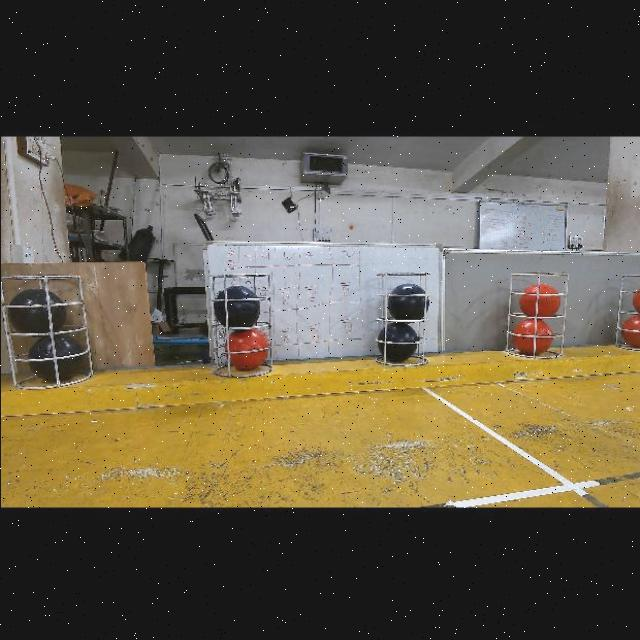P: (26, 333, 84, 382), (6, 288, 65, 333), (212, 285, 260, 327), (376, 322, 417, 363), (386, 283, 429, 320)
R: (229, 328, 269, 371), (511, 319, 553, 355), (518, 284, 559, 316), (621, 315, 640, 347), (631, 287, 640, 313)
S: (0, 268, 96, 390), (206, 269, 276, 373), (501, 265, 573, 357), (371, 268, 439, 362), (618, 270, 640, 350)
